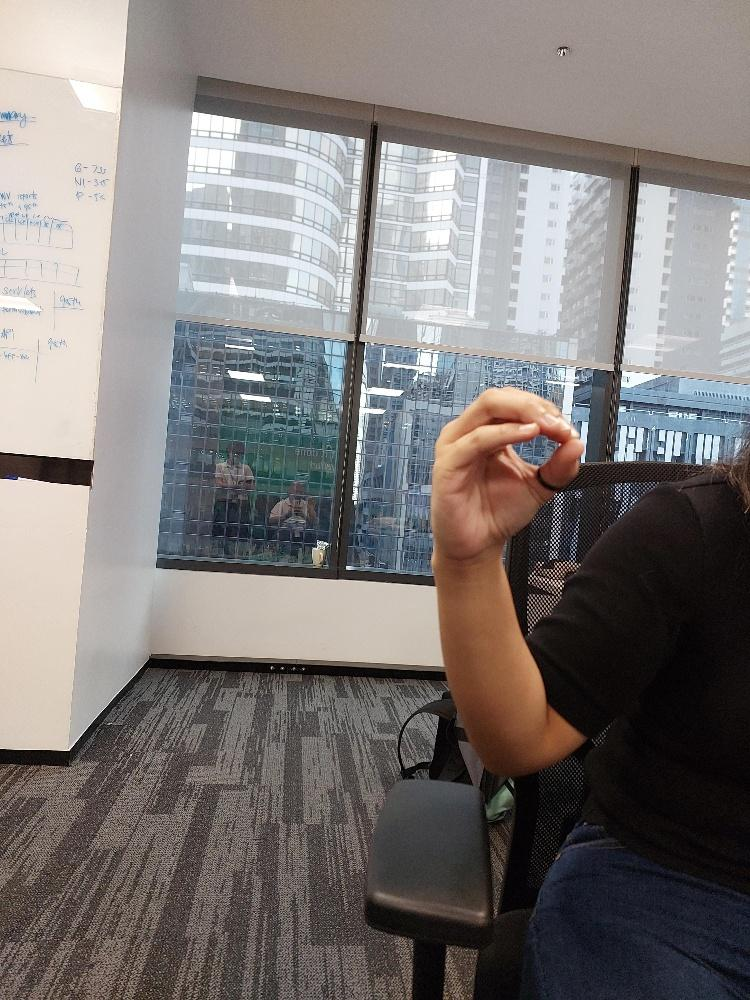o: (428, 383, 585, 563)
